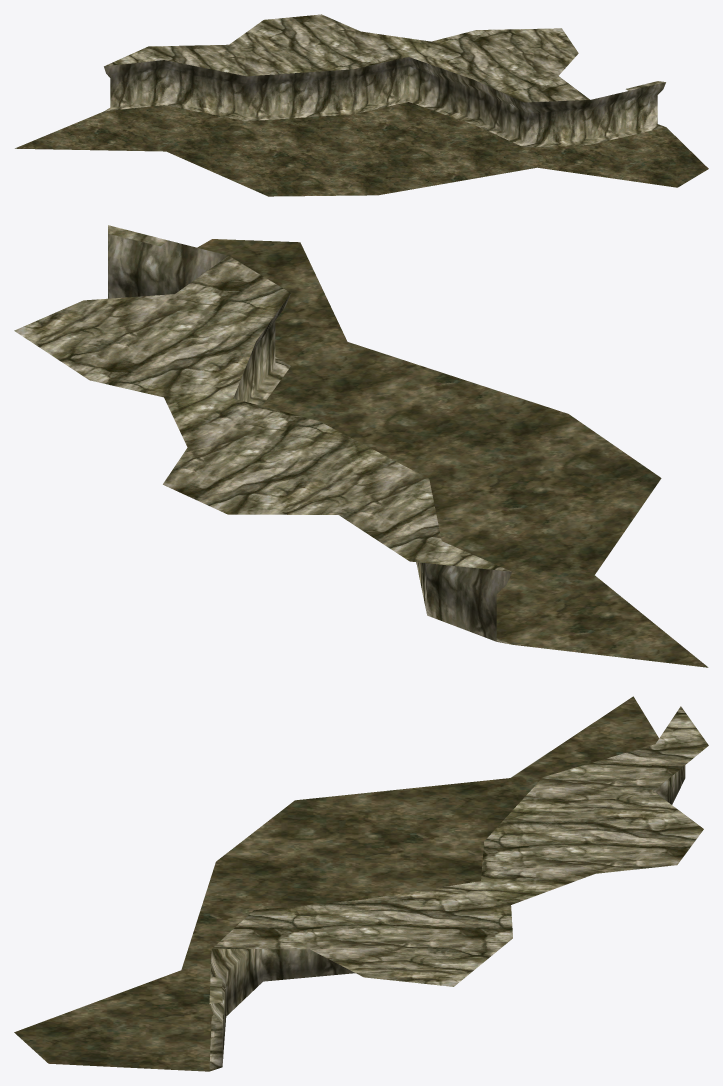
File: CB_NEWPLAYSURFACE_CB_PLAYSURFACE23.fbx
The picture shows the model from 3 angles, top to bottom: view 1: azimuth 30°, elevation 25°; view 2: azimuth 150°, elevation 25°; view 3: azimuth 270°, elevation 25°; orthographic projection. The views are drawn at different scales.
Visible parts, largest first — view 1: CB_NEWPLAYSURFACE_CB_PLAYSURFACE23; view 2: CB_NEWPLAYSURFACE_CB_PLAYSURFACE23; view 3: CB_NEWPLAYSURFACE_CB_PLAYSURFACE23.
Part boxes in pixels (left/top/right/bottom): CB_NEWPLAYSURFACE_CB_PLAYSURFACE23: left=15, top=14, right=708, bottom=196; CB_NEWPLAYSURFACE_CB_PLAYSURFACE23: left=14, top=225, right=708, bottom=667; CB_NEWPLAYSURFACE_CB_PLAYSURFACE23: left=14, top=696, right=708, bottom=1071.
Bounding box in the file's own units: 356585 × 30000 × 278968.
3 materials, 3 textured.
